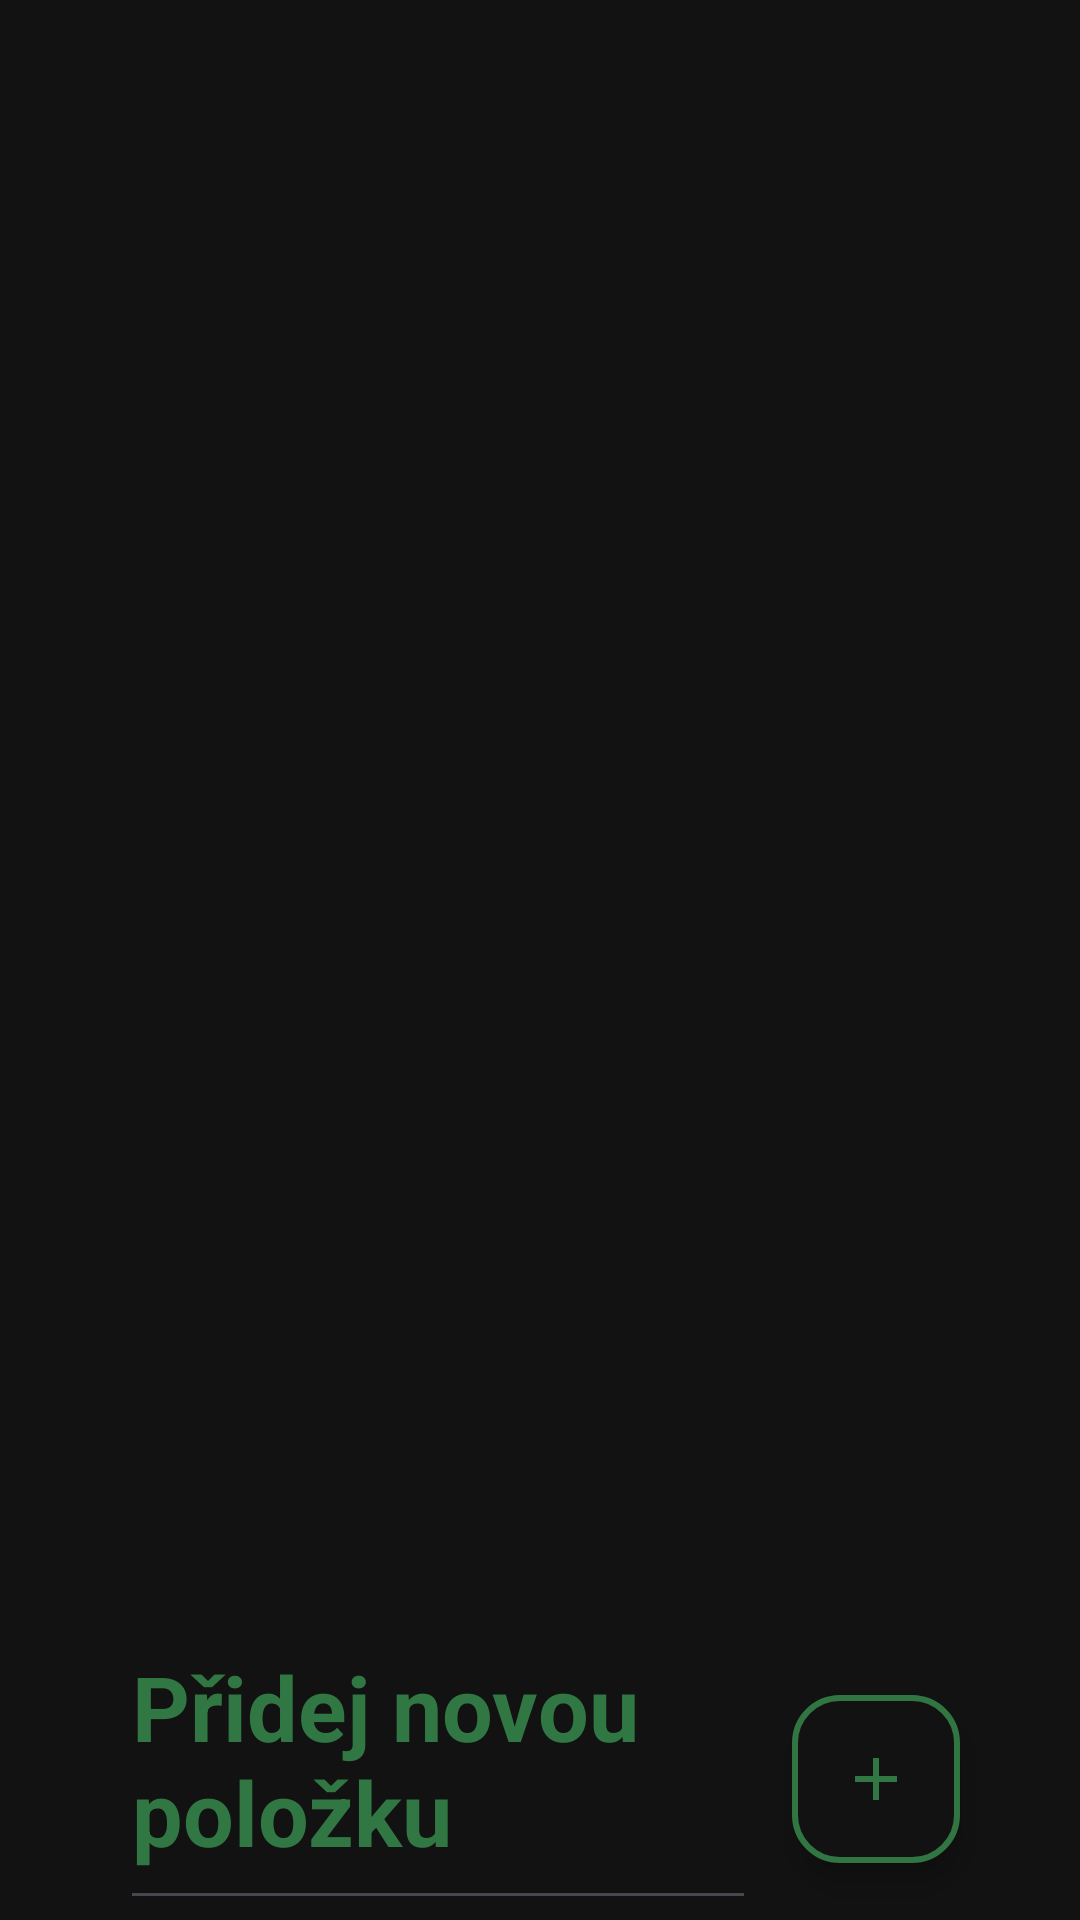

Named icons in this screenshot (1080w x 1920h) and their bounding boxes, [x1=x1, y1=y1, x2=x2, y2=y2]:
plus: [x1=792, y1=1695, x2=960, y2=1863]
